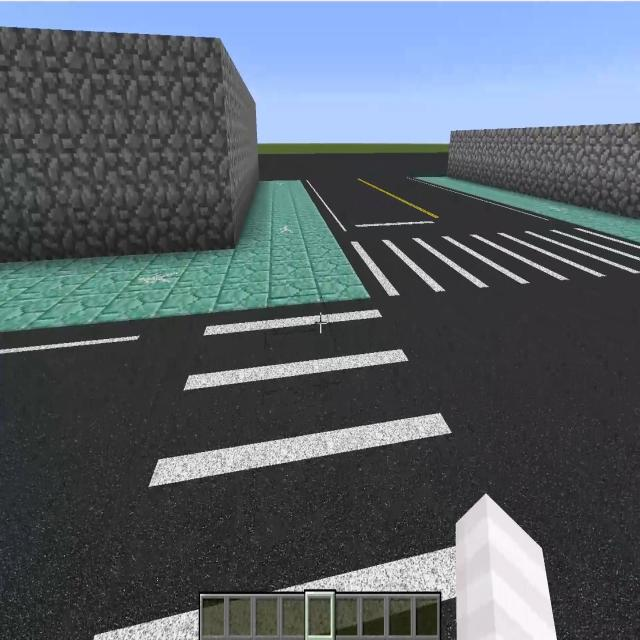crosswalk: (92, 298, 491, 634), (343, 220, 639, 306)
road: (388, 289, 636, 639), (2, 324, 195, 634), (263, 155, 516, 234)
sidewalk: (0, 180, 369, 341), (412, 177, 640, 243)
